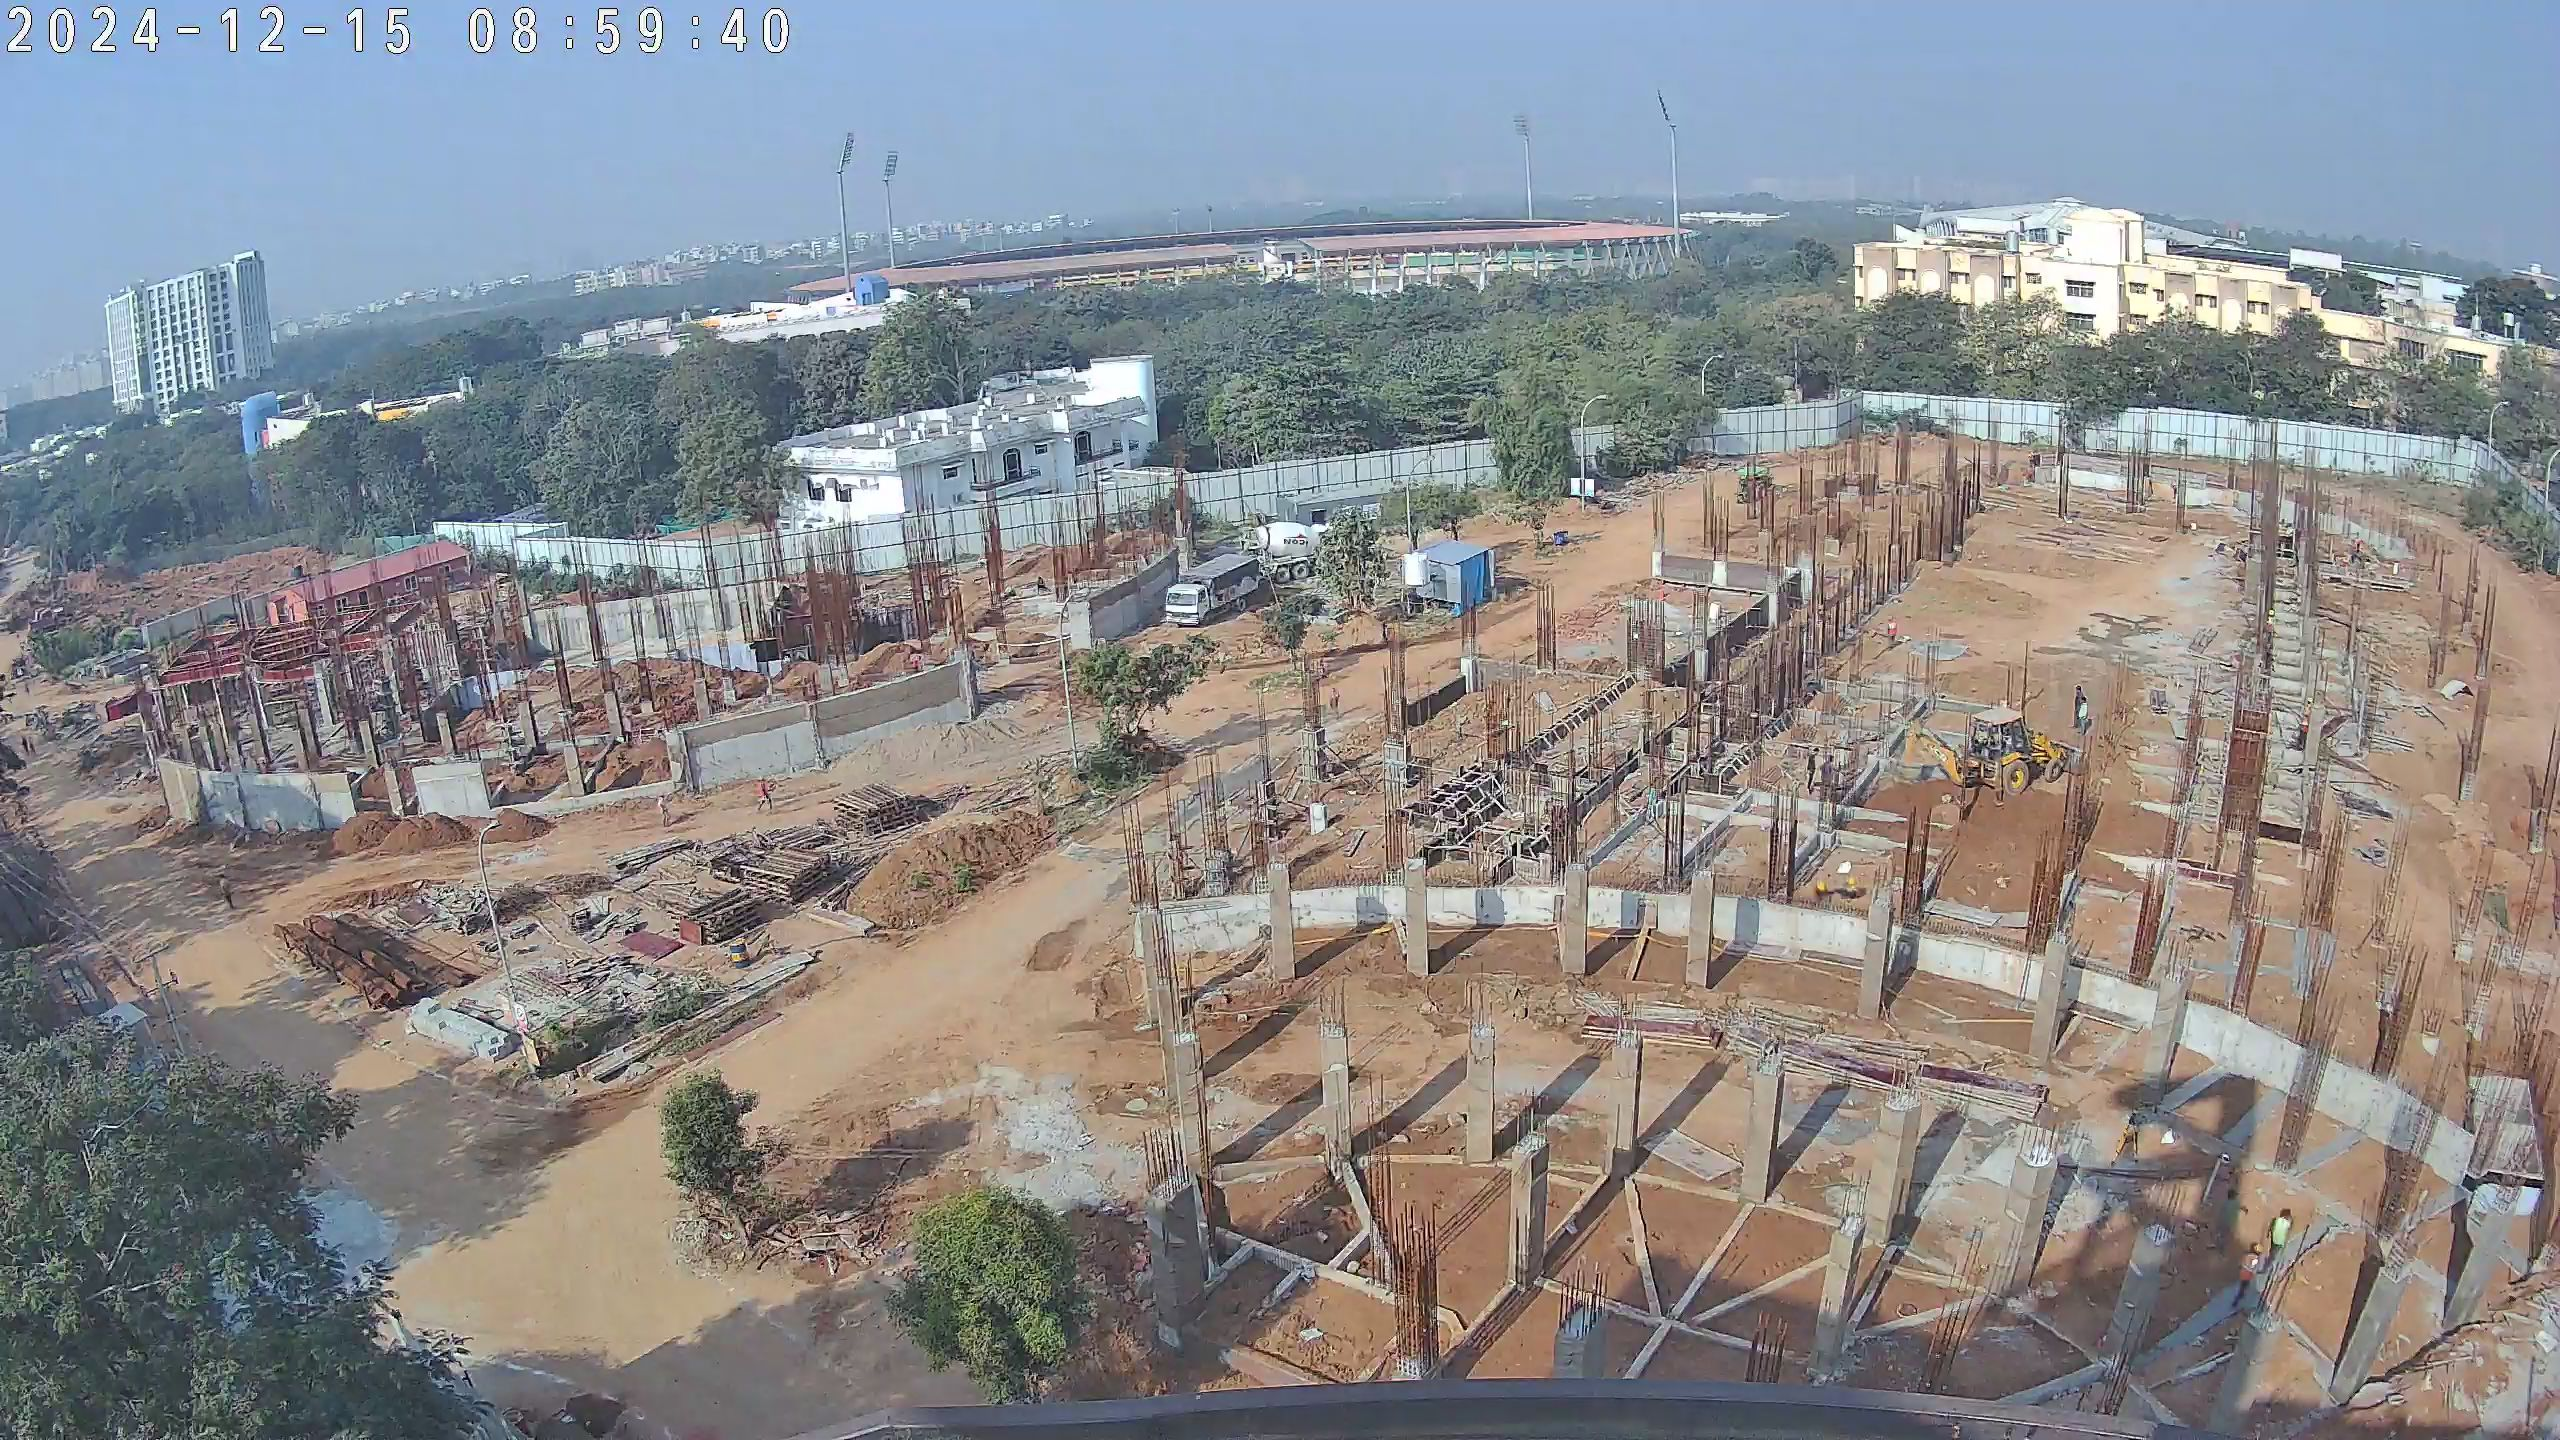bulldozer: (1895, 704, 2099, 799), (1731, 463, 1797, 513)
truck: (1238, 517, 1358, 584), (1164, 552, 1262, 629)
worker: (2237, 1235, 2264, 1306), (1817, 745, 1846, 801), (2295, 690, 2317, 753), (754, 773, 782, 818), (211, 871, 241, 913), (2068, 681, 2091, 731), (1803, 739, 1821, 799), (2270, 1204, 2285, 1272), (654, 791, 678, 829), (906, 644, 928, 682), (1886, 612, 1903, 652), (23, 735, 41, 759), (18, 737, 33, 758)
